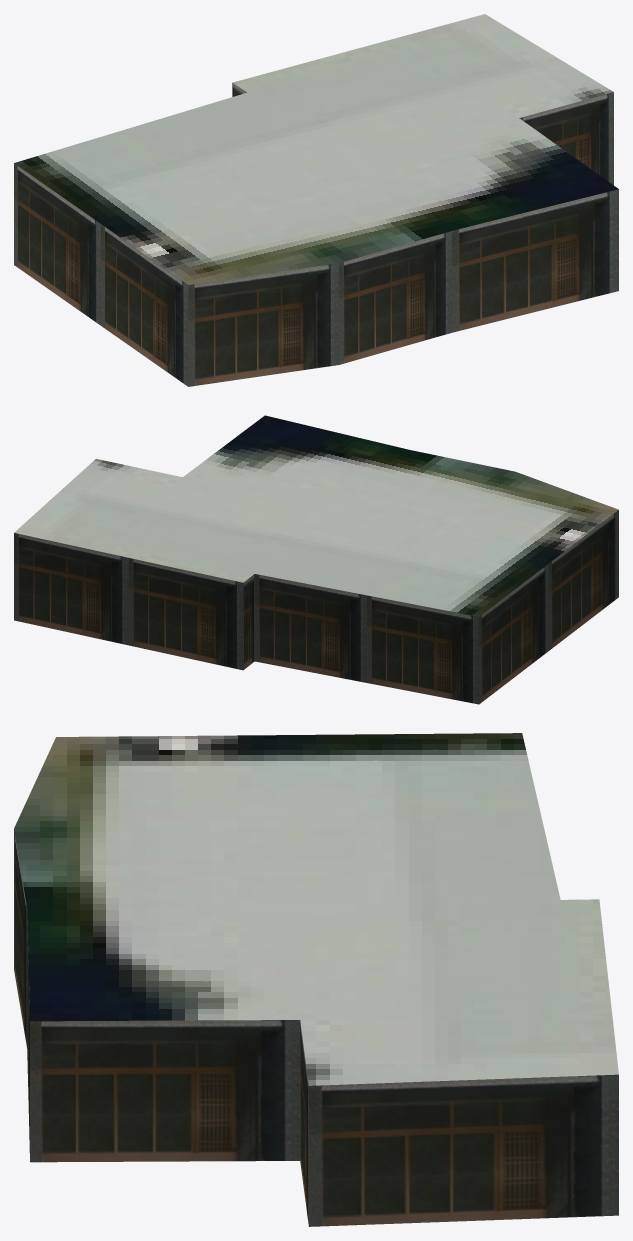
File: T_1T0524NVG0.dae
The picture shows the model from 3 angles, top to bottom: view 1: azimuth 30°, elevation 25°; view 2: azimuth 150°, elevation 25°; view 3: azimuth 270°, elevation 25°; orthographic projection. The views are drawn at different scales.
Visible parts, largest first — view 1: SketchUp (×6); view 2: SketchUp (×5); view 3: SketchUp (×5).
Part boxes in pixels (x1,y1,x2,y2): SketchUp (×6): [14, 14, 618, 386]; SketchUp (×5): [14, 415, 618, 704]; SketchUp (×5): [14, 733, 618, 1226].
Size of the model in its own units: 16.05 by 11.63 by 2.99.
2 materials, 2 textured.
